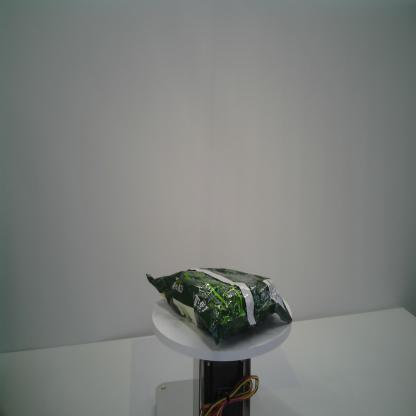Instant Noodles: (145, 267, 293, 346)
